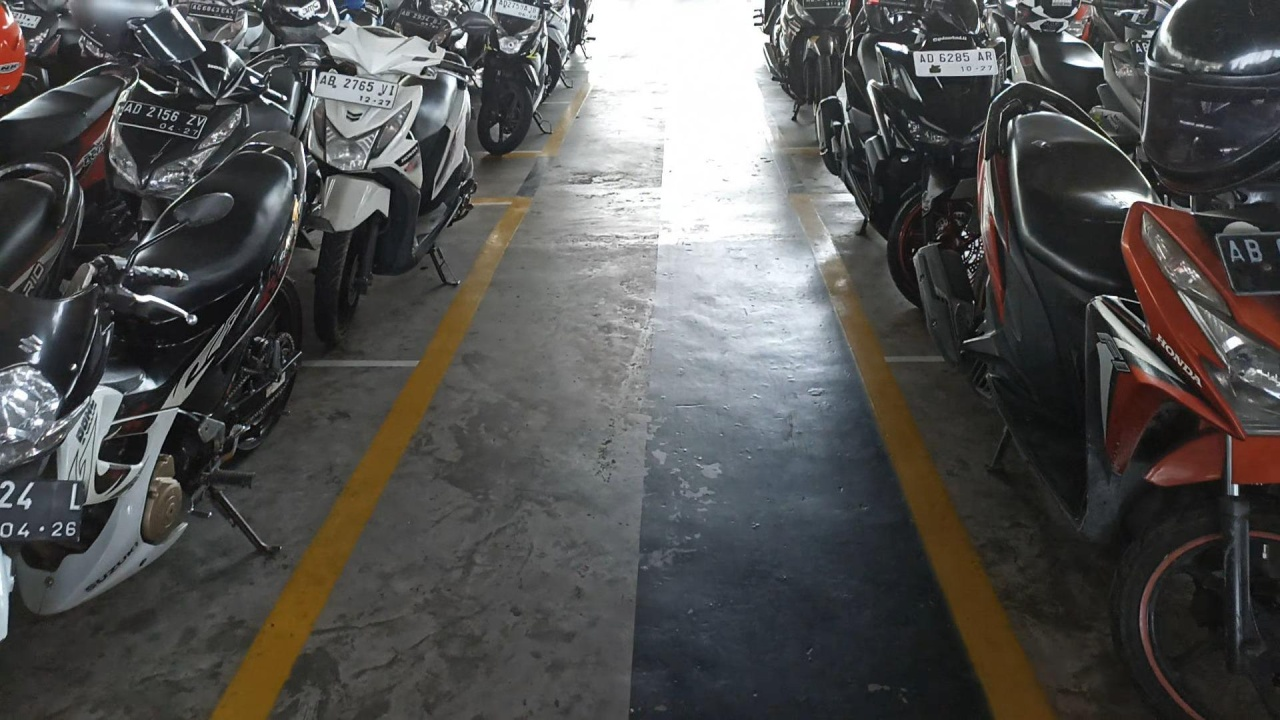plate: (117, 101, 208, 139), (313, 71, 400, 109), (913, 48, 999, 77), (495, 0, 540, 21)
